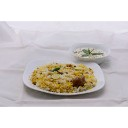briyani: (31, 62, 99, 88)
